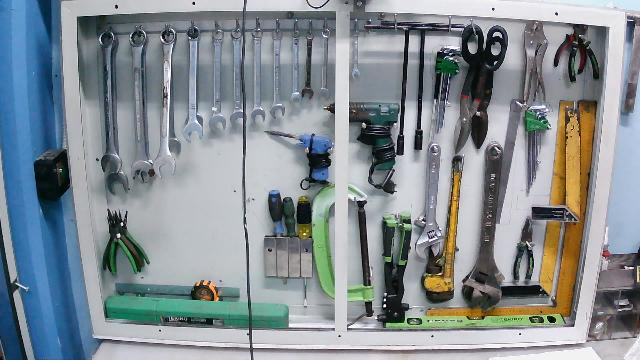kunci_l_bintang: (523, 102, 553, 195)
